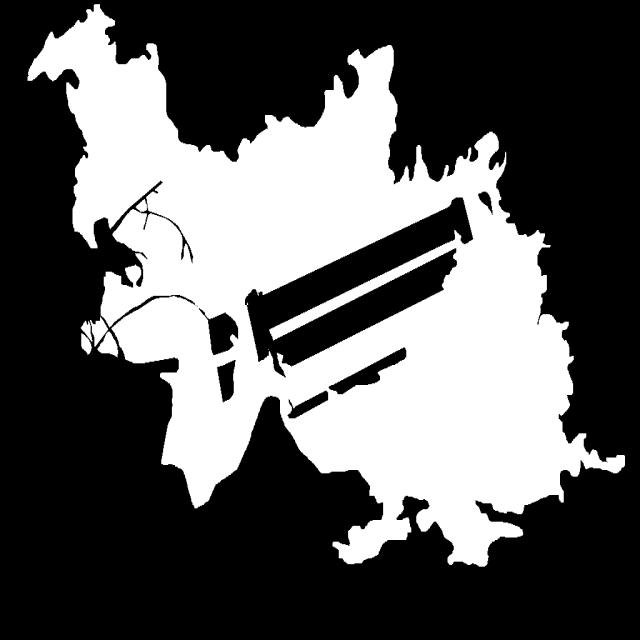fire: (23, 25, 640, 542)
